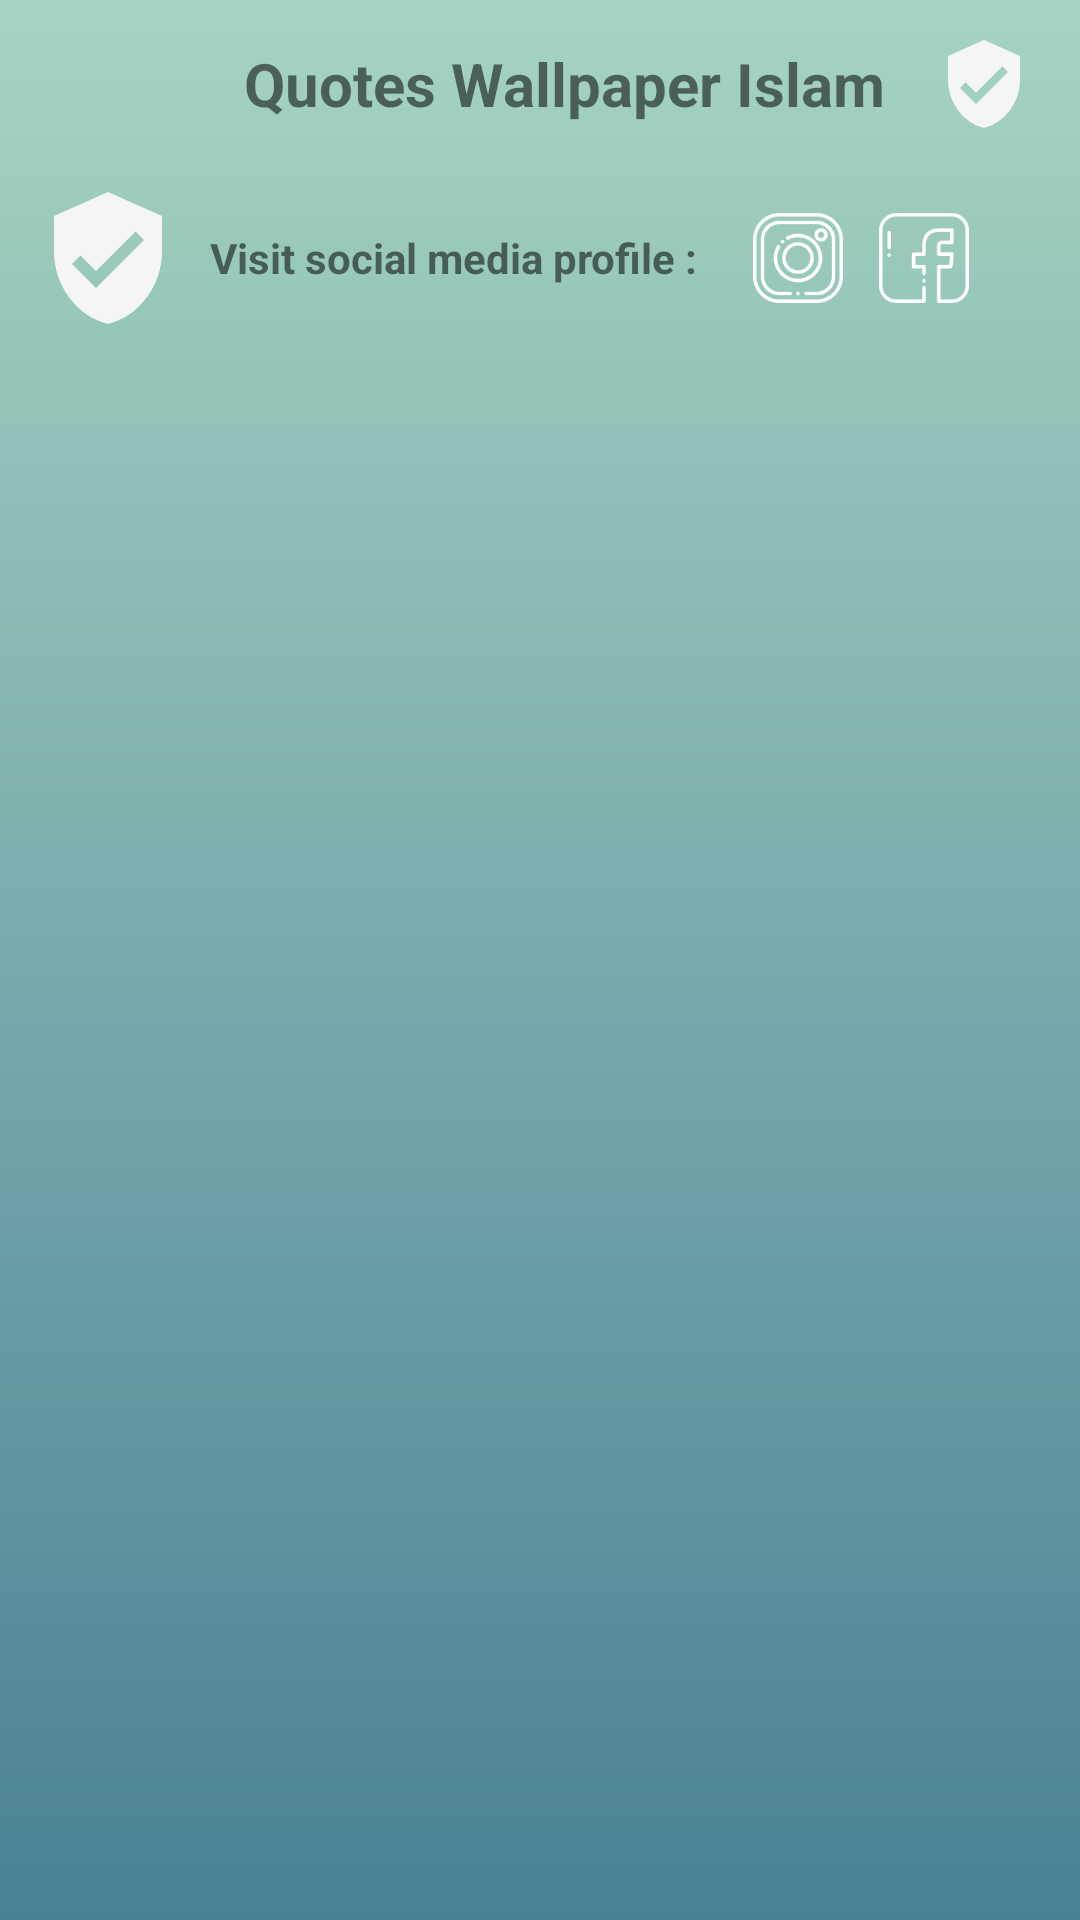

Screen size 1080x1920. Icon name, then its center in pixels as (x=x, y=y):
verified user: (x=984, y=84), (x=108, y=258)
